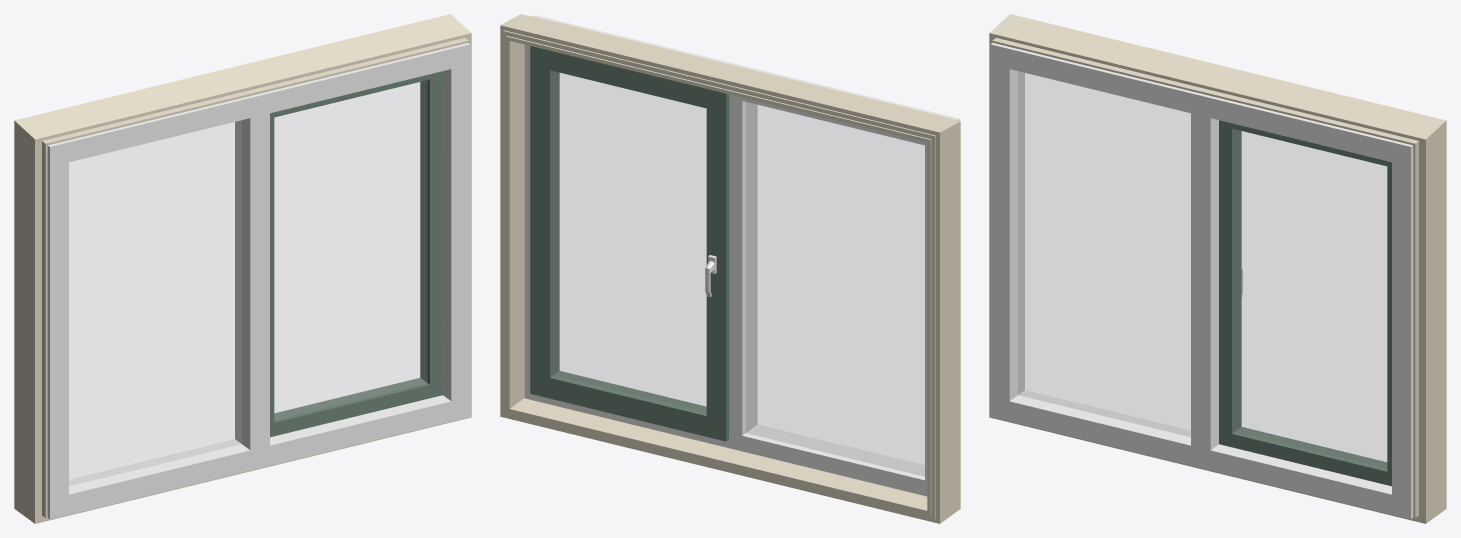
3 renders of one model, left to right at view 1: azimuth 30°, elevation 25°; view 2: azimuth 150°, elevation 25°; view 3: azimuth 330°, elevation 25°, orthographic.
Visible parts, largest first — view 1: [8693666]Merk B-001, [8693667]DEL_Merk B; view 2: [8693666]Merk B-001, [8693667]DEL_Merk B; view 3: [8693666]Merk B-001, [8693667]DEL_Merk B.
Part boxes in pixels (x1,y1,x2,y2): [8693666]Merk B-001: (47, 43, 470, 519); [8693667]DEL_Merk B: (14, 14, 471, 523); [8693666]Merk B-001: (524, 15, 959, 496); [8693667]DEL_Merk B: (500, 14, 960, 523); [8693666]Merk B-001: (990, 43, 1413, 519); [8693667]DEL_Merk B: (989, 14, 1446, 523).
Size of the model in its own units: 1.82 by 1.55 by 0.212.
